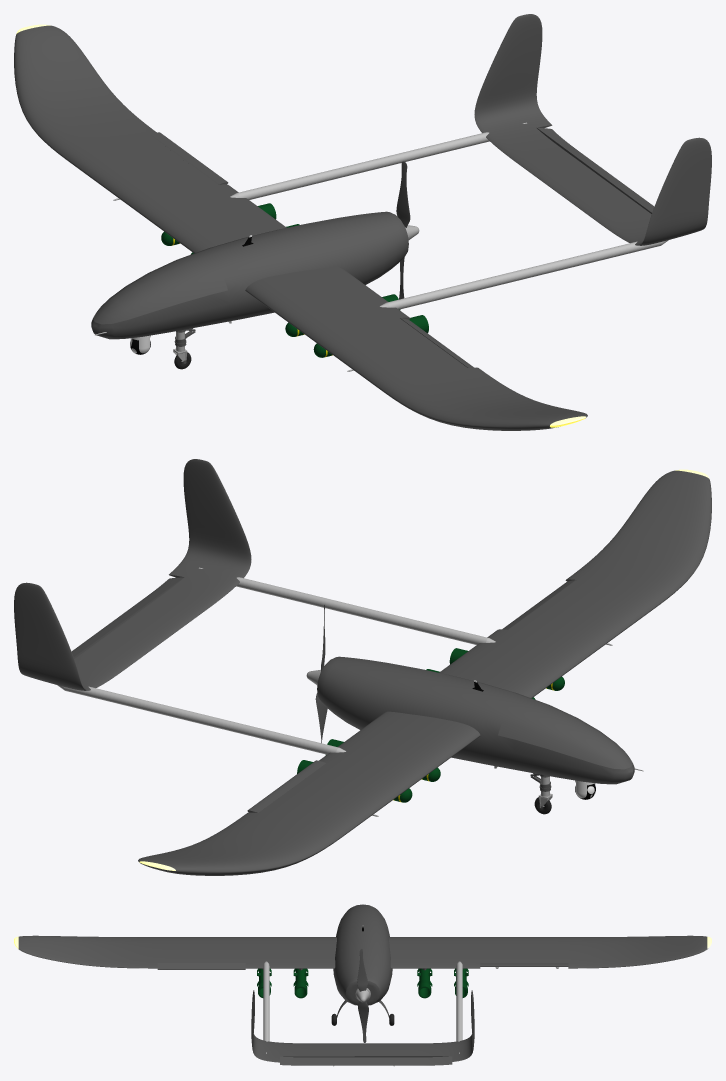
File: uploads_files_4453704_FIXEDWING_UAV.fbx
The picture shows the model from 3 angles, top to bottom: view 1: azimuth 30°, elevation 25°; view 2: azimuth 150°, elevation 25°; view 3: azimuth 270°, elevation 25°; orthographic projection. The views are drawn at different scales.
Visible parts, largest first — view 1: Cube.001, Cube.002, Cube, Cylinder, Cube.004, Cube.007, Cube.006, Cube.003; view 2: Cube.001, Cube.002, Cube, Cylinder, Cube.004, Cube.007, Cube.006; view 3: Cube.001, Cube, Cube.002, Cube.007, Cylinder, Cube.005, Cube.004, Cube.003, Cube.006, Cylinder.023, Cylinder.014.
Part boxes in pixels (box(x1,y1,x2,y2)): Cube.001: box(14, 24, 587, 430); Cube.002: box(474, 14, 711, 245); Cube: box(91, 211, 408, 339); Cylinder: box(230, 122, 668, 309); Cube.004: box(93, 253, 227, 324); Cube.007: box(537, 127, 654, 213); Cube.006: box(150, 132, 228, 184); Cube.003: box(396, 161, 410, 299); Cube.001: box(138, 469, 711, 875); Cube.002: box(14, 459, 251, 690); Cube: box(317, 656, 634, 784); Cylinder: box(57, 567, 495, 754); Cube.004: box(498, 698, 632, 769); Cube.007: box(71, 577, 183, 658); Cube.006: box(247, 760, 325, 812); Cube.001: box(14, 935, 711, 968); Cube: box(333, 919, 392, 1005); Cube.002: box(251, 990, 474, 1062); Cube.007: box(280, 1056, 452, 1065); Cylinder: box(263, 961, 462, 1053); Cube.005: box(157, 963, 245, 969); Cube.004: box(337, 904, 388, 930); Cube.003: box(357, 948, 368, 1042); Cube.006: box(480, 963, 568, 966); Cylinder.023: box(294, 968, 307, 998); Cylinder.014: box(418, 968, 431, 998).
Size of what is drawn, in the model's own units: 1752 by 585 by 3046.
